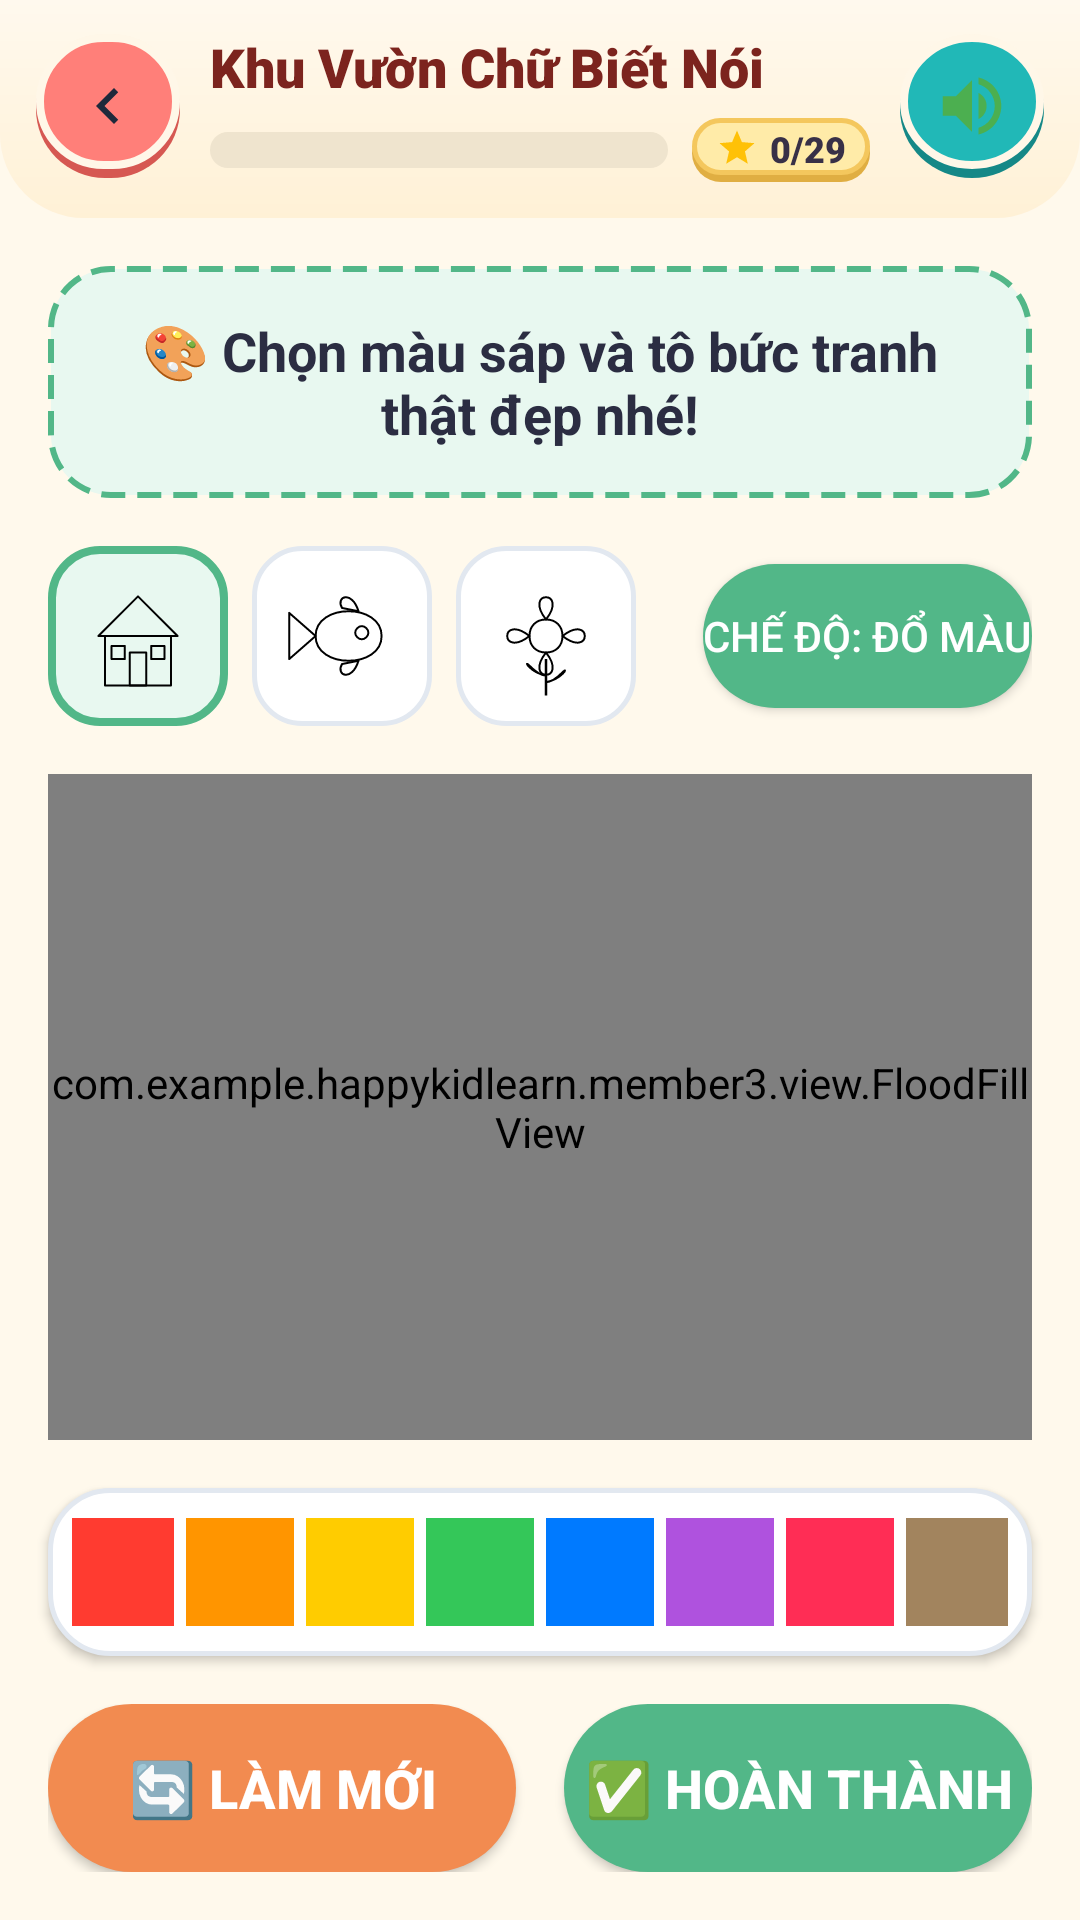

Named icons in this screenshot (1080px×1920px) and their centers, point (x, y):
Bật hoặc tắt âm thanh ứng dụng: point (972, 110)
coloring fish: point (342, 636)
coloring flower: point (546, 636)
coloring house: point (138, 636)
Quay lại: point (108, 110)
star: point (737, 147)
